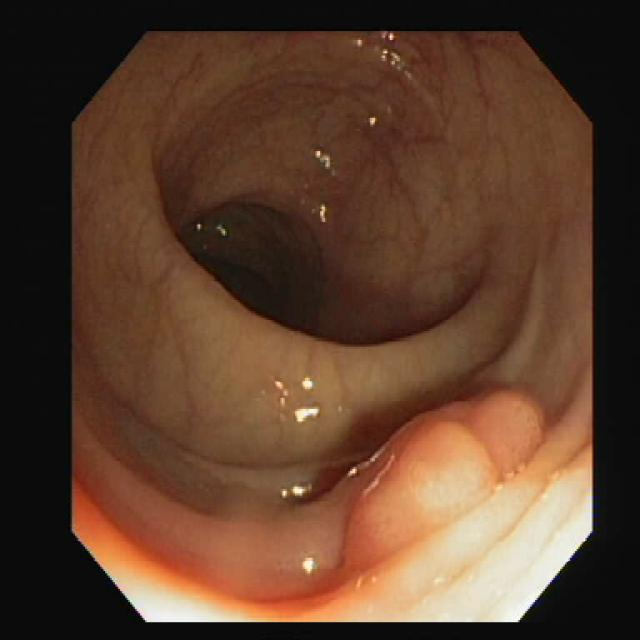tumor: (350, 393, 543, 527)
